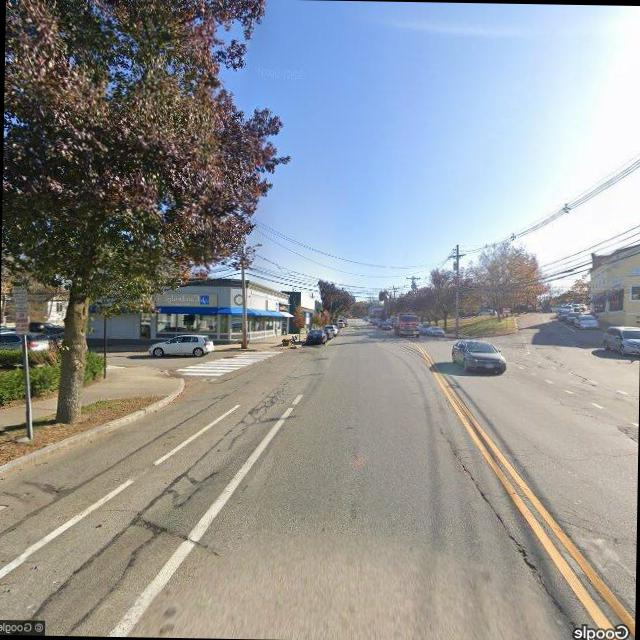pothole: (424, 411, 592, 634)
